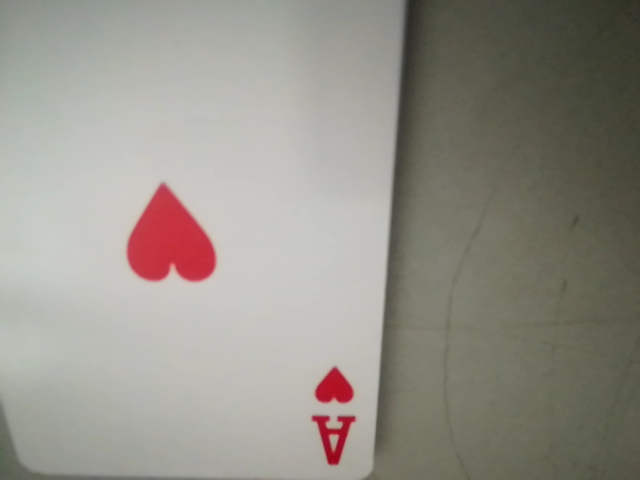hx a: (308, 360, 364, 469)
